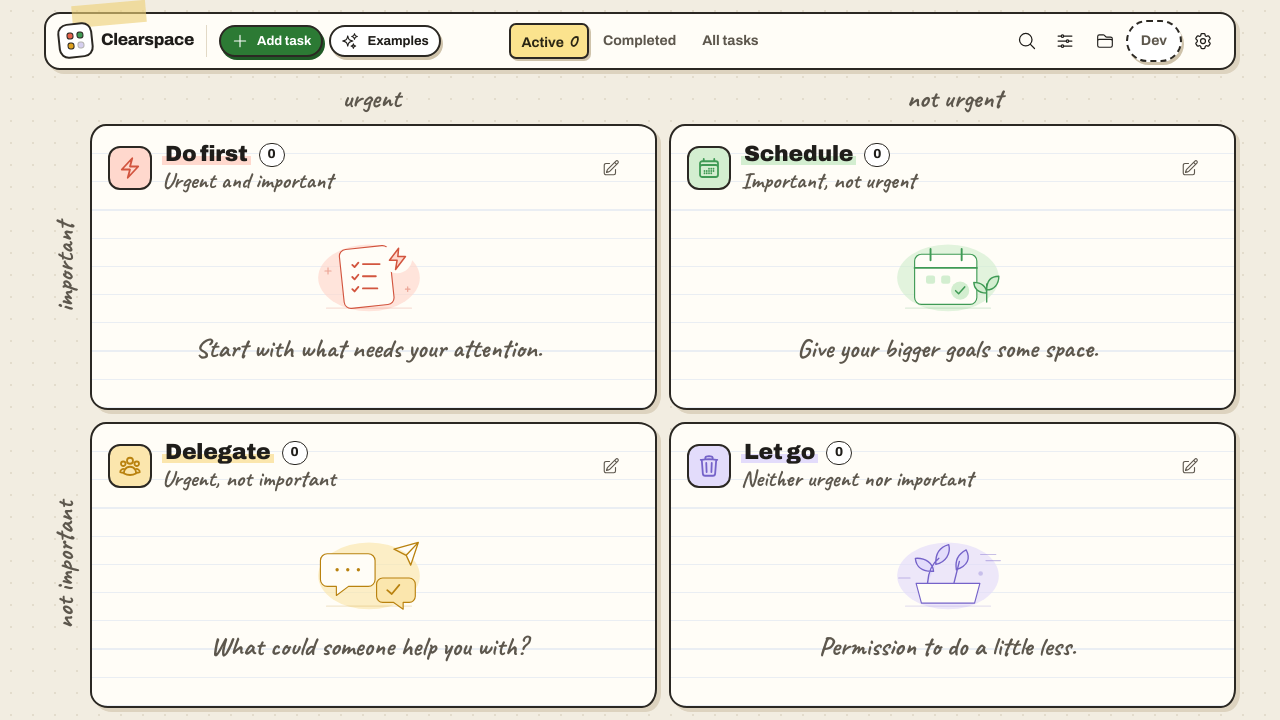
lets dropdown typeahead use shortcut letters without opening another feature
The width and height of the screenshot is (1280, 720).
Click the button with aria-label "Add your first task" at (271, 41), box [219,25,323,57]
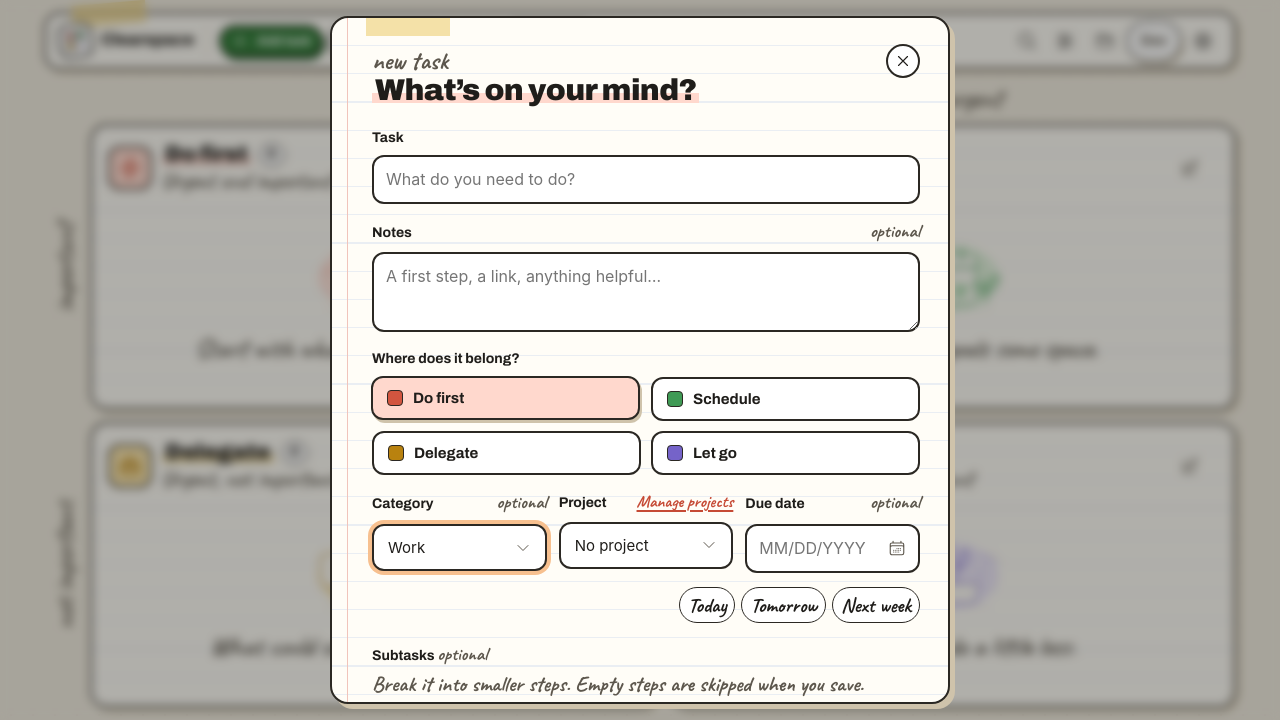
Press Arrowdown
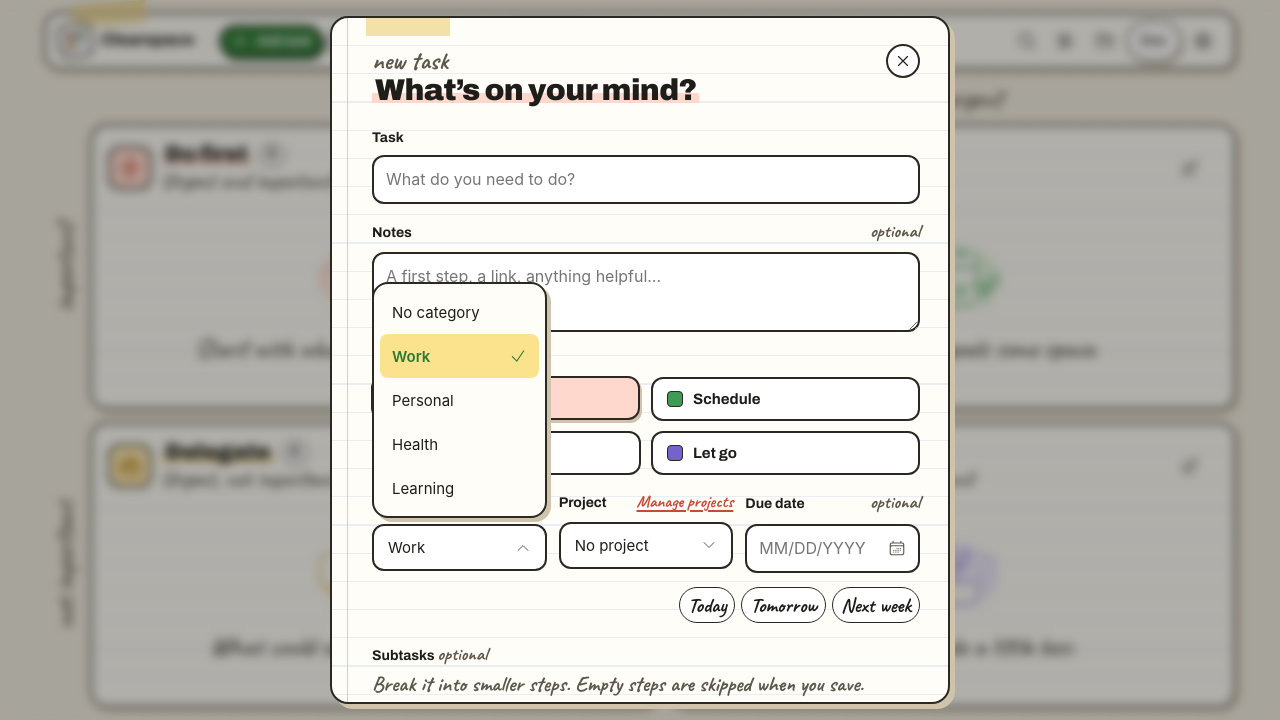
Check: the list is shown, box [380,290,539,510]
Type keys "p"
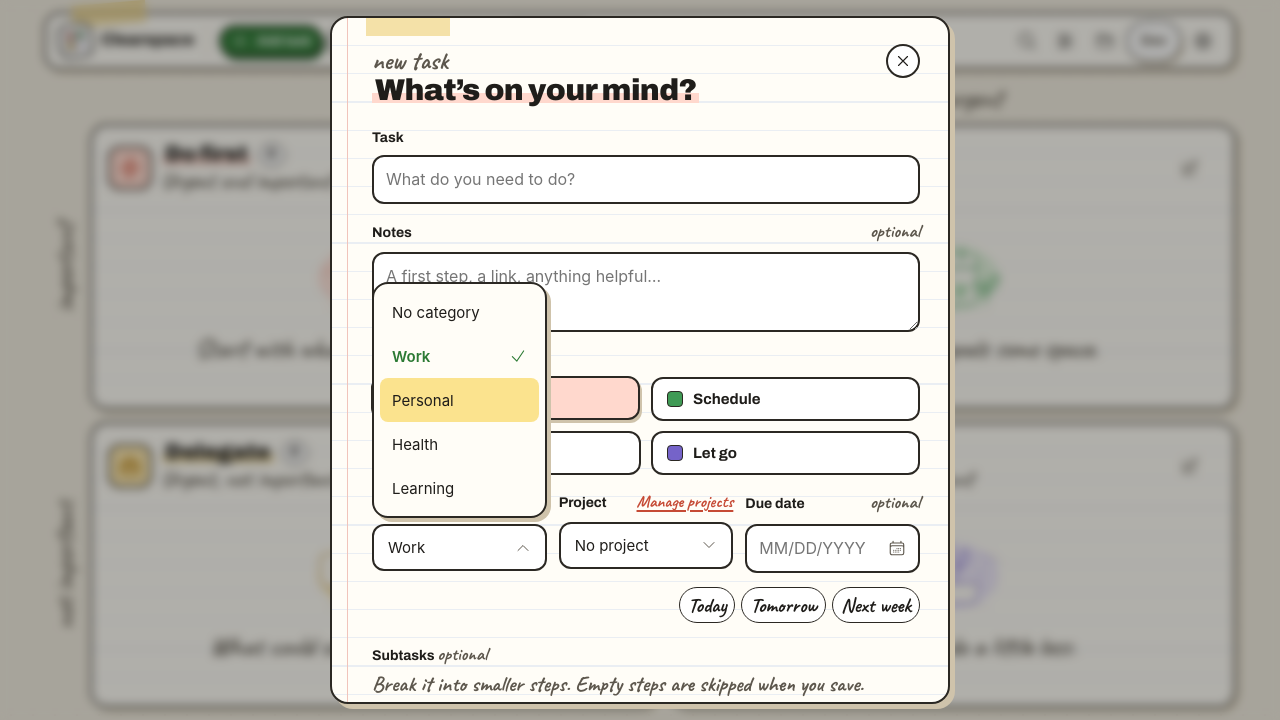
Check: the option "Personal" has attribute data-highlighted, box [380,378,539,422]
Press Enter
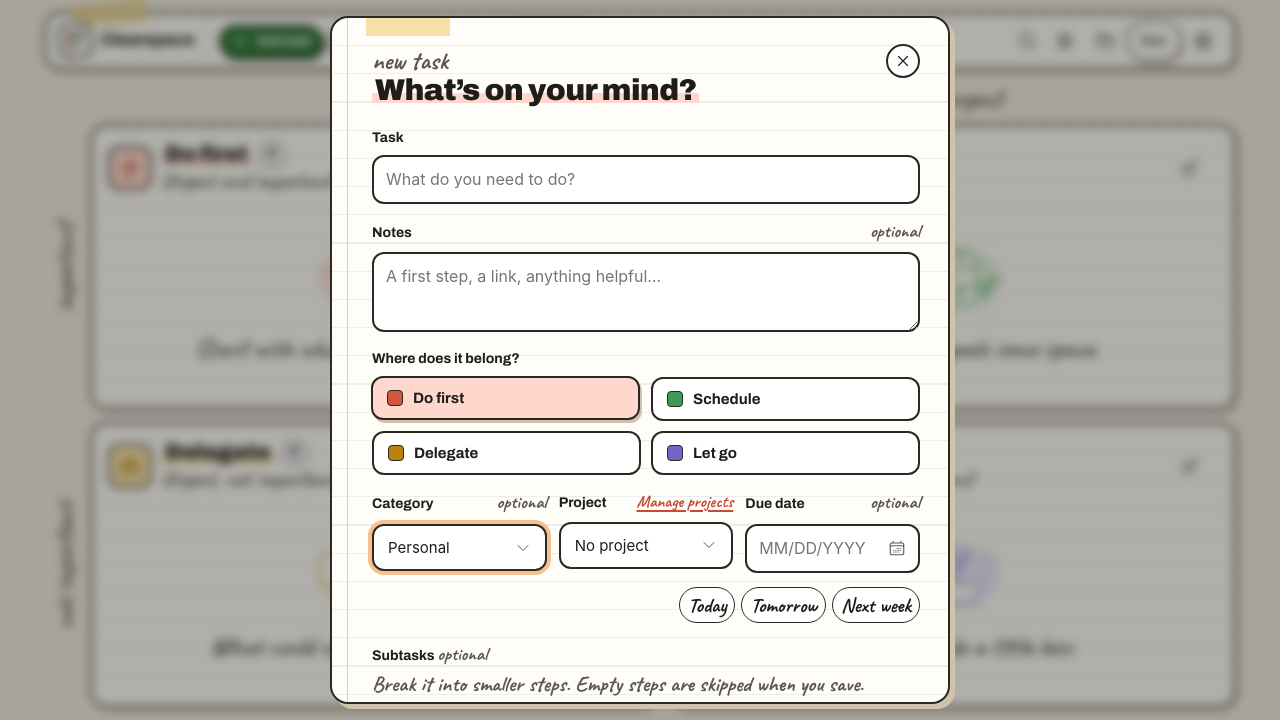
Check: the dropdown named "Category" reads "Personal", box [372,524,547,571]
